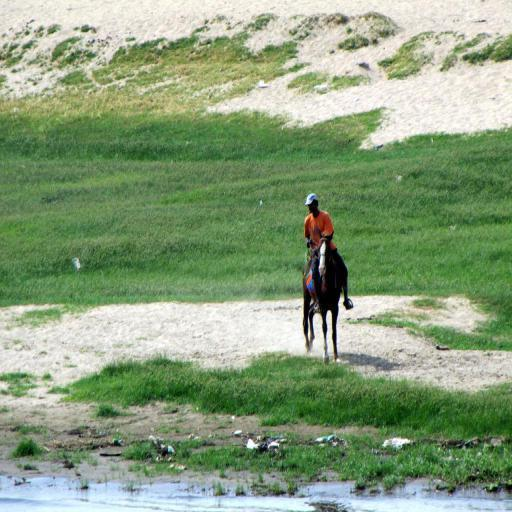horse: (302, 228, 344, 362)
